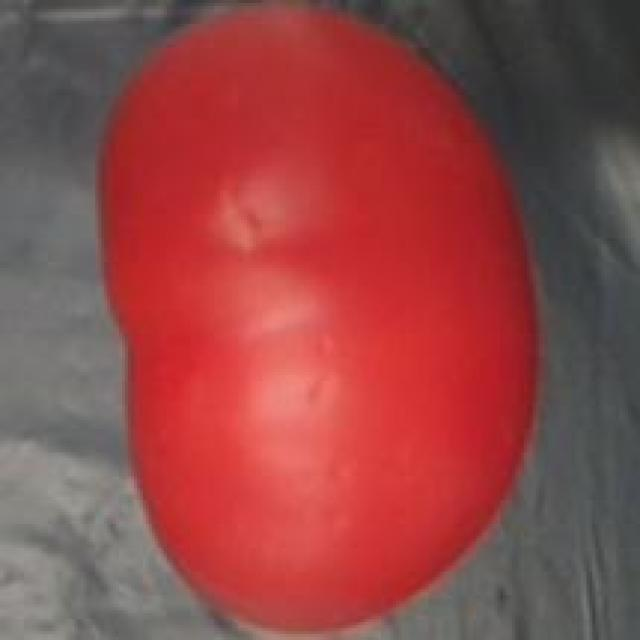ripe tomato: (80, 3, 557, 640)
